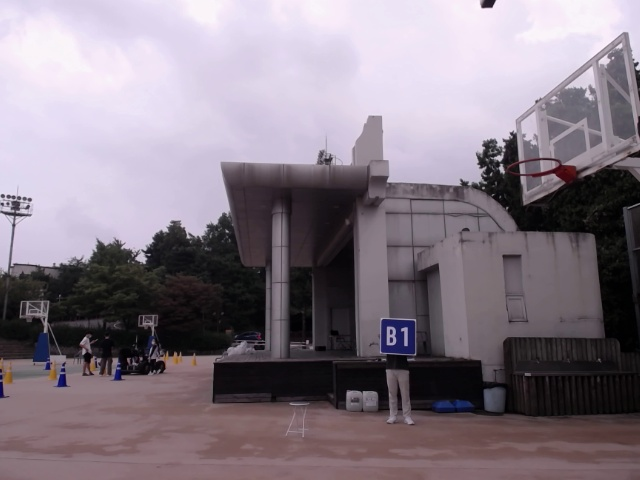delivery_b1: (380, 318, 416, 355)
